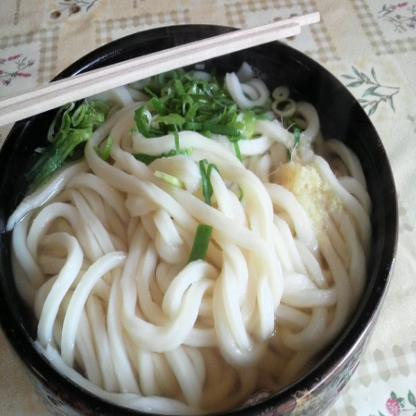Noodles: (6, 58, 374, 414)
